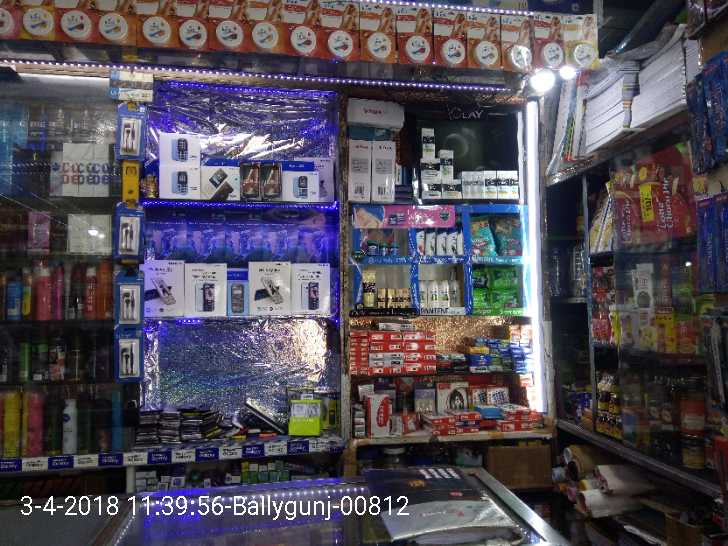vicks: (364, 241, 403, 257)
